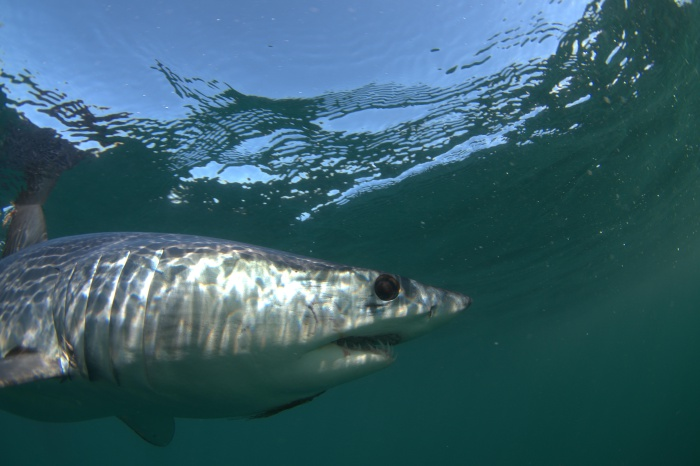Mako: (1, 194, 495, 450)
